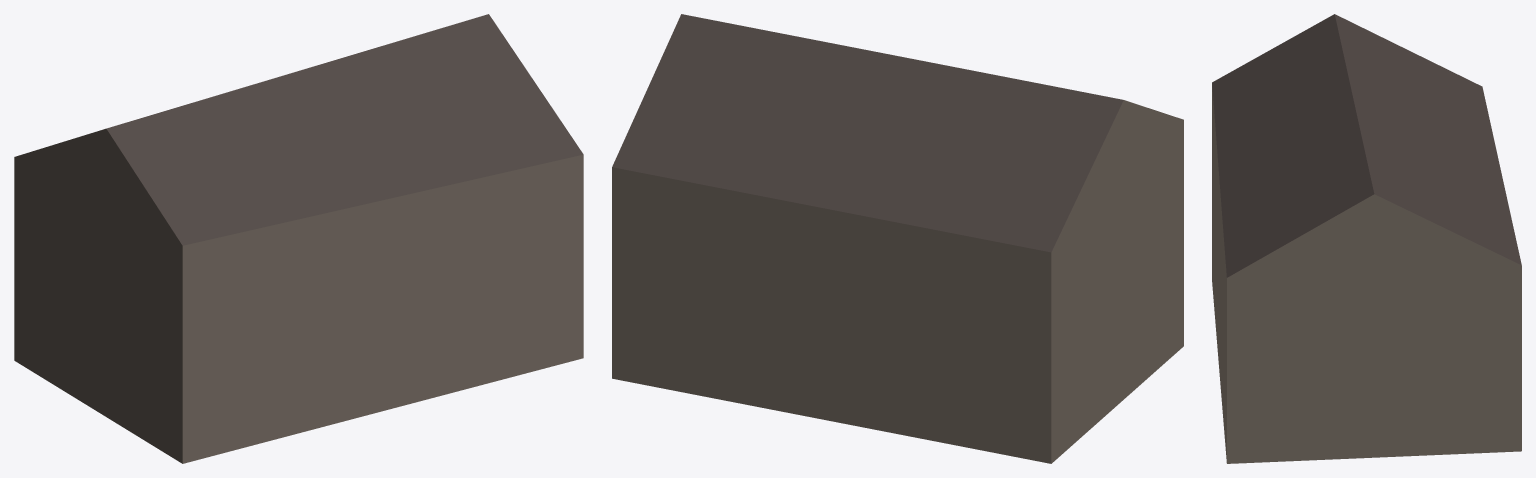
The picture shows the model from 3 angles, left to right: view 1: azimuth 30°, elevation 25°; view 2: azimuth 150°, elevation 25°; view 3: azimuth 270°, elevation 25°; orthographic projection. The views are drawn at different scales.
Parts seen in each view (by area): view 1: HP-w1512965862; view 2: HP-w1512965862; view 3: HP-w1512965862.
Boxes of the visible parts, x1,y1,x2,y2 form: HP-w1512965862: (14, 14, 583, 463); HP-w1512965862: (612, 14, 1183, 463); HP-w1512965862: (1212, 14, 1521, 463).
Size of the model in its own units: 13.24 by 8.5 by 9.06.
